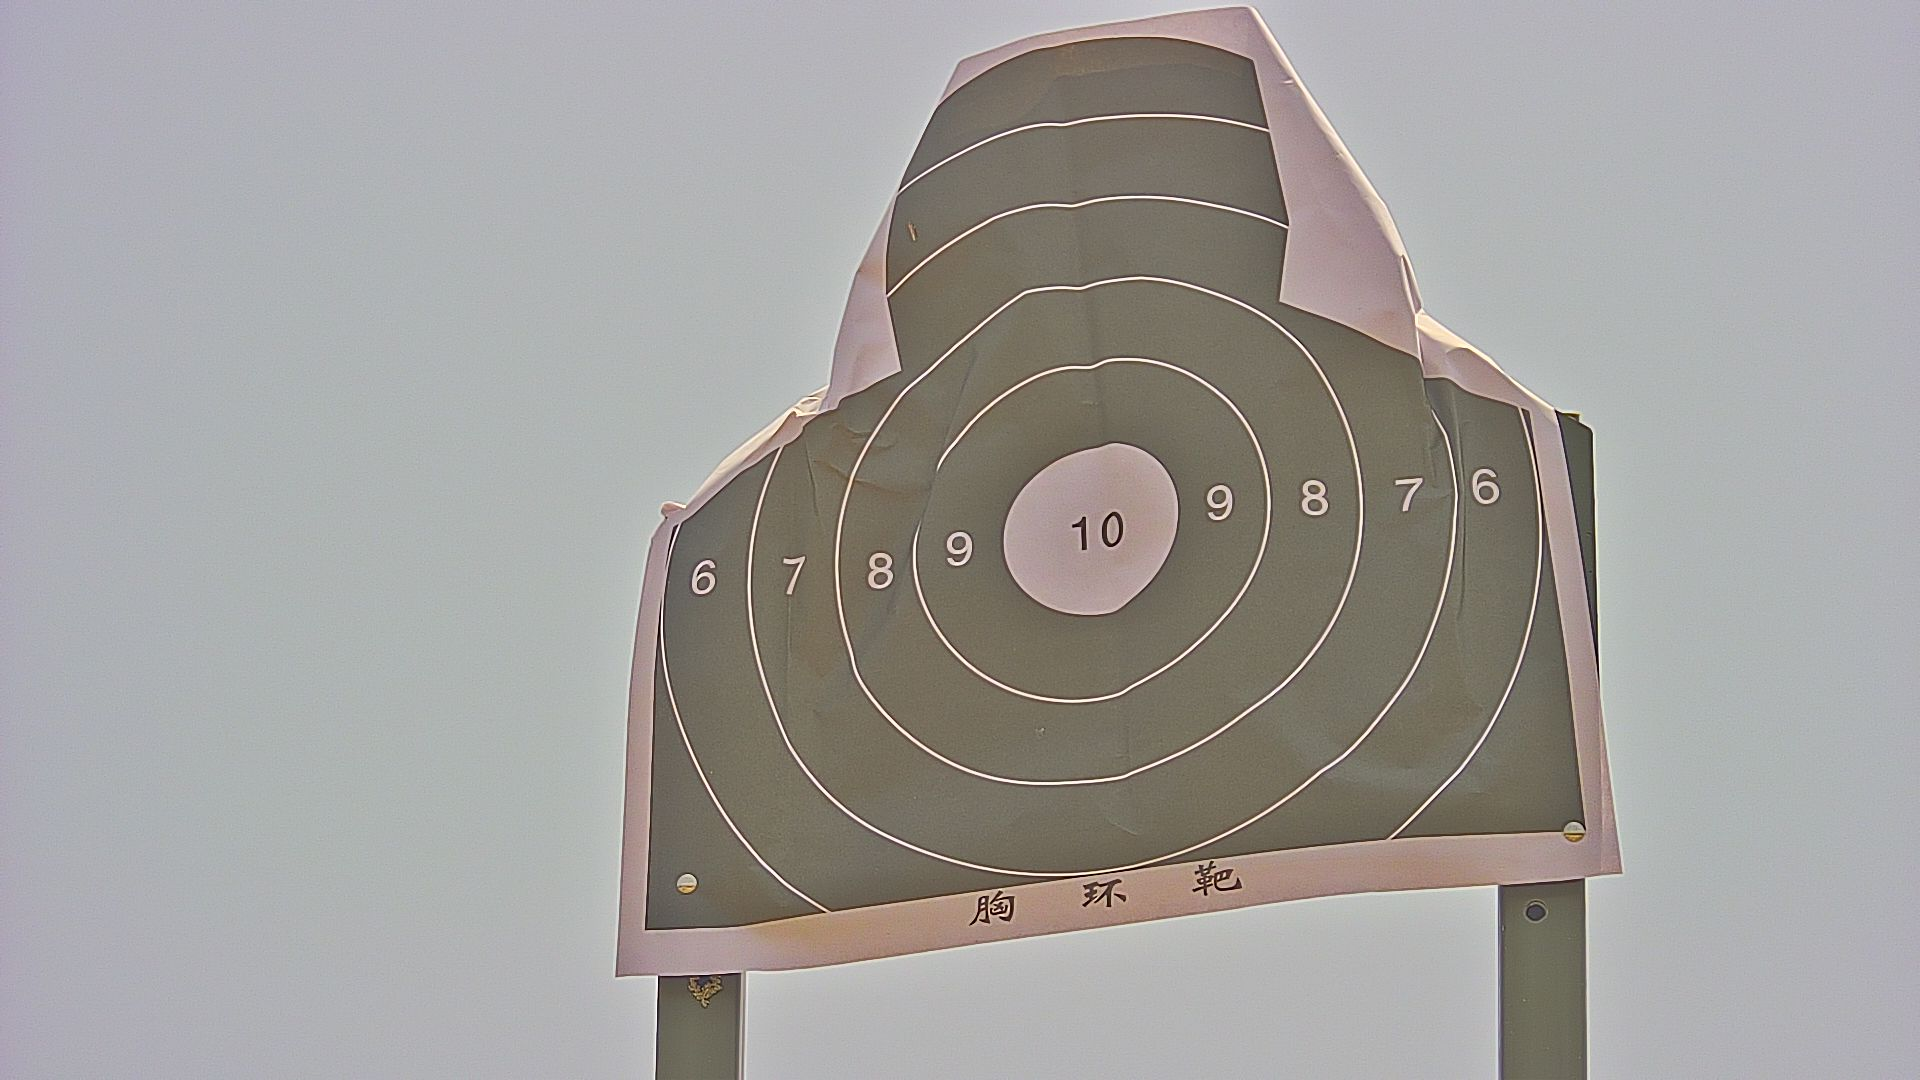kernel: (1092, 527, 1097, 534)
target: (646, 41, 1588, 938)
ten: (1002, 440, 1182, 616)
